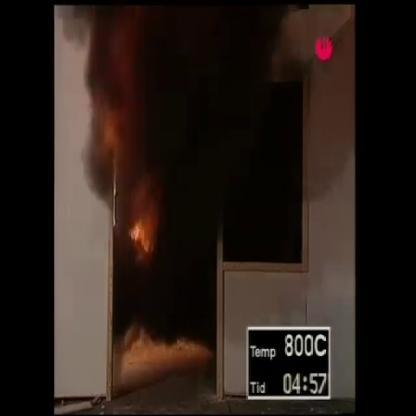fire: (129, 177, 174, 271)
